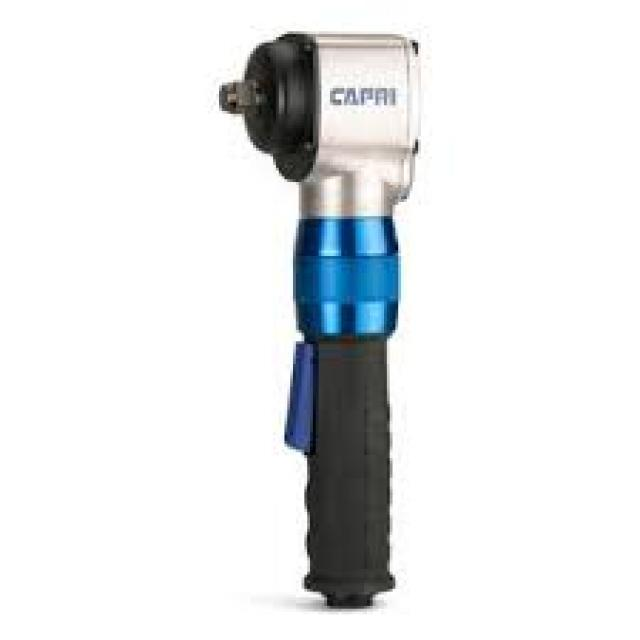wrench: (208, 4, 450, 602)
